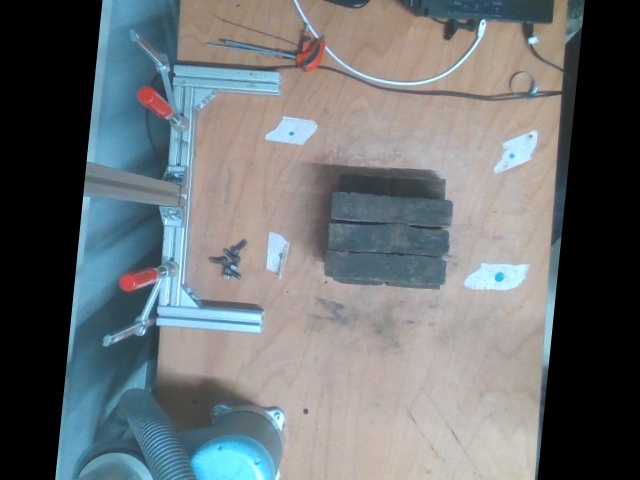brick-side: (326, 251, 445, 282), (332, 194, 450, 225), (331, 224, 449, 254)
